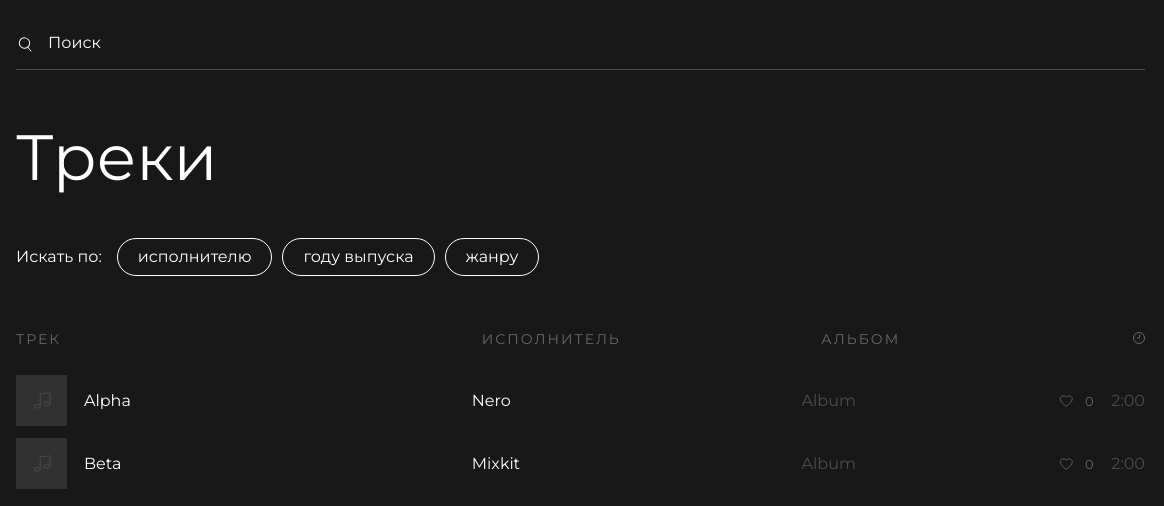
Test: Centerblock › filters playlist by search query
In the search field with placeholder "Поиск": x=592, y=44 [38,18,1145,69], type "Be"
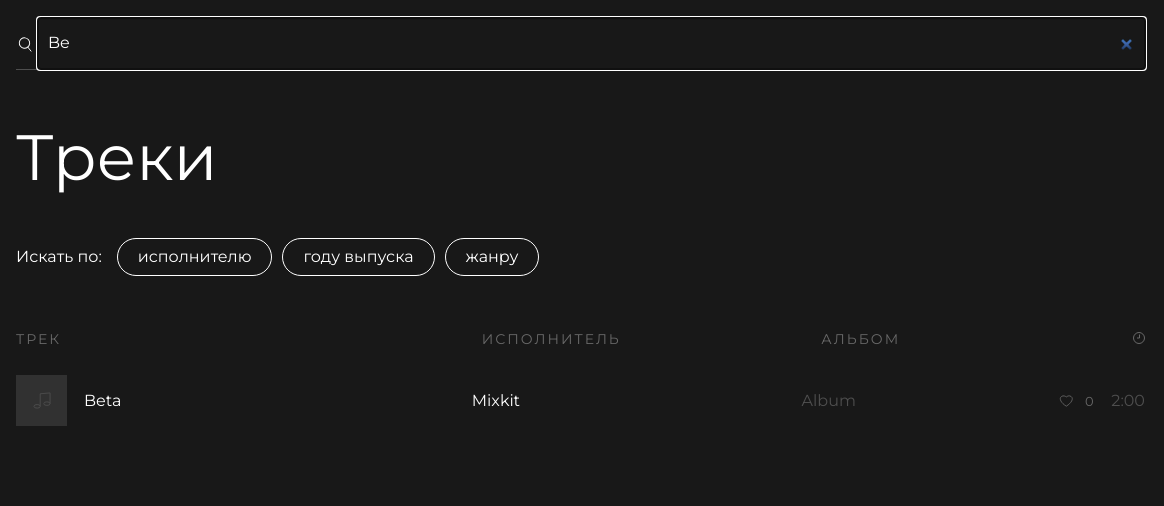
Check: the text "Beta" is shown, box [84,390,121,410]
Check: the button "Alpha" is gone
